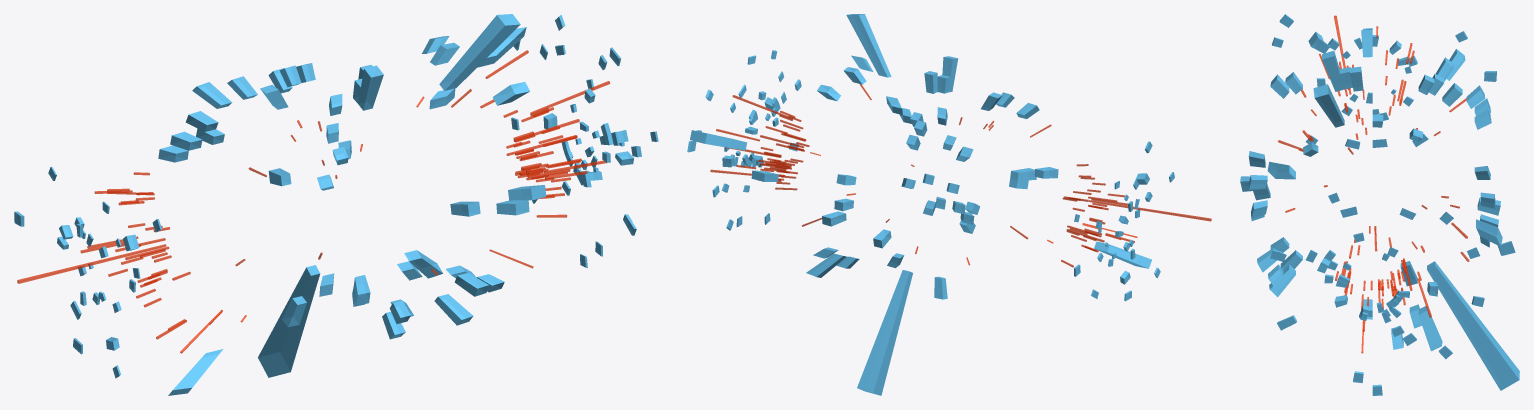
The model's file is Event_84804159_calo.fbx.
3 views of the same model, side by side, from view 1: azimuth 30°, elevation 25°; view 2: azimuth 150°, elevation 25°; view 3: azimuth 270°, elevation 25° (orthographic). The views are drawn at different scales.
Visible parts, largest first — view 1: Model; view 2: Model; view 3: Model.
Part boxes in pixels (x1,y1,x2,y2): Model: [14, 14, 658, 395]; Model: [687, 14, 1211, 395]; Model: [1240, 14, 1519, 395].
Size of the model in its own units: 26.34 by 16.52 by 11.86.
